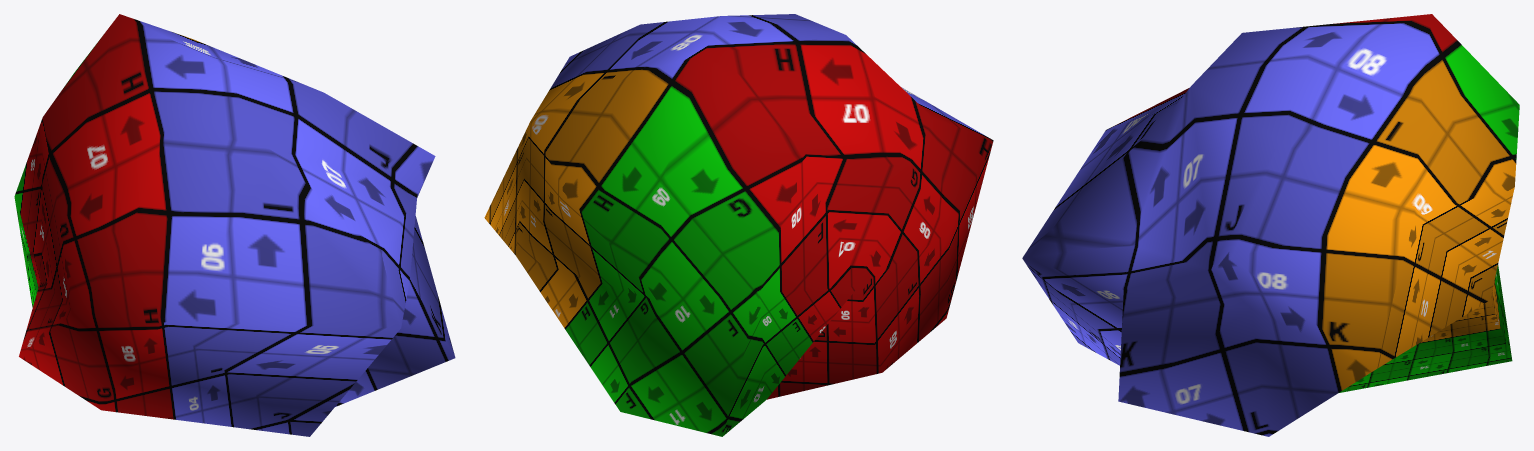
File: rock.fbx
3 renders of one model, left to right at view 1: azimuth 30°, elevation 25°; view 2: azimuth 150°, elevation 25°; view 3: azimuth 270°, elevation 25°, orthographic. The views are drawn at different scales.
Visible parts, largest first — view 1: rock; view 2: rock; view 3: rock.
Part boxes in pixels (x1=…): rock: x1=14, y1=14, x2=455, y2=436; rock: x1=484, y1=14, x2=993, y2=436; rock: x1=1022, y1=14, x2=1519, y2=436.
Bounding box in the file's own units: 1.98 × 1.74 × 2.22.
1 material, 1 textured.
